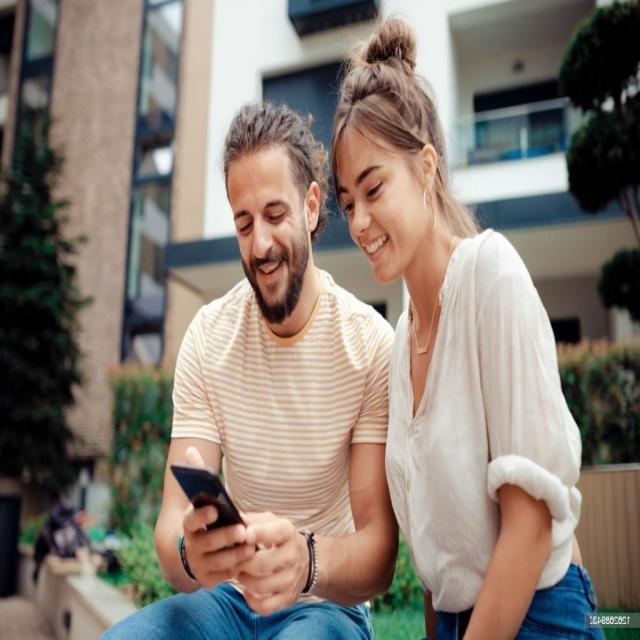phone: (170, 464, 259, 558)
